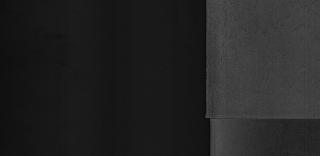welding line: (200, 114, 320, 124)
